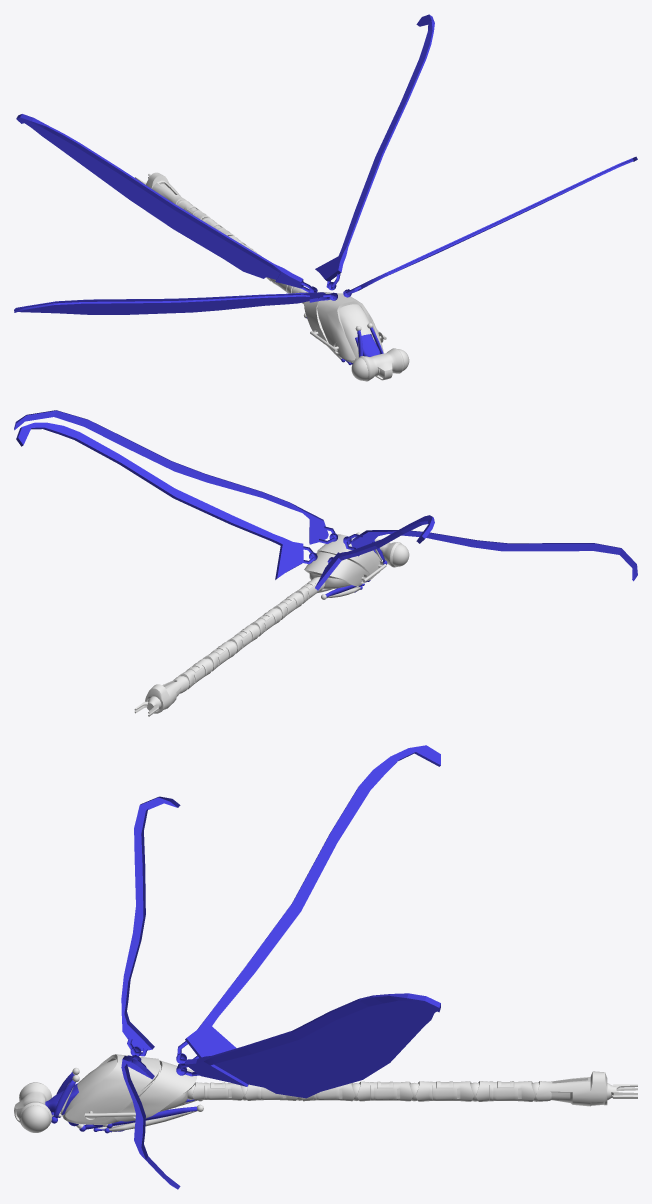
File: dragonfly.gltf
3 views of the same model, one above another, from view 1: azimuth 30°, elevation 25°; view 2: azimuth 150°, elevation 25°; view 3: azimuth 270°, elevation 25° (orthographic). The views are drawn at different scales.
Parts seen in each view (by area): view 1: BackWing.001, FrontWing.001, BackWing, basebody.001, FrontWing, HEAD, basebody, back; view 2: BackWing, FrontWing, FrontWing.001, basebody.001, BackWing.001, back, HEAD, TAIL.005, TAIL.004, TAIL.003; view 3: BackWing, BackWing.001, basebody.001, FrontWing.001, back, HEAD, FrontWing, basebody, TAIL.005, TAIL.004, TAIL.003, TAIL (+1 smaller).
Part boxes in pixels (left/top/right/bottom): BackWing.001: left=16, top=114, right=317, bottom=292; FrontWing.001: left=14, top=292, right=337, bottom=314; BackWing: left=315, top=14, right=434, bottom=290; basebody.001: left=304, top=292, right=386, bottom=360; FrontWing: left=343, top=156, right=637, bottom=297; HEAD: left=351, top=348, right=409, bottom=381; basebody: left=333, top=304, right=375, bottom=362; back: left=135, top=172, right=186, bottom=204; BackWing: left=16, top=422, right=317, bottom=579; FrontWing: left=14, top=410, right=337, bottom=544; FrontWing.001: left=343, top=530, right=637, bottom=581; basebody.001: left=304, top=534, right=386, bottom=586; BackWing.001: left=315, top=515, right=434, bottom=590; back: left=134, top=676, right=189, bottom=716; HEAD: left=374, top=539, right=409, bottom=567; TAIL.005: left=178, top=659, right=213, bottom=689; TAIL.004: left=202, top=641, right=236, bottom=671; TAIL.003: left=227, top=625, right=259, bottom=653; BackWing: left=176, top=993, right=440, bottom=1098; BackWing.001: left=176, top=745, right=440, bottom=1063; basebody.001: left=65, top=1054, right=196, bottom=1121; FrontWing.001: left=121, top=796, right=180, bottom=1056; back: left=536, top=1071, right=637, bottom=1106; HEAD: left=14, top=1082, right=51, bottom=1132; FrontWing: left=121, top=1055, right=180, bottom=1189; basebody: left=62, top=1059, right=194, bottom=1124; TAIL.005: left=476, top=1081, right=539, bottom=1101; TAIL.004: left=416, top=1081, right=479, bottom=1101; TAIL.003: left=357, top=1081, right=418, bottom=1101; TAIL: left=192, top=1082, right=248, bottom=1100.
Bounding box in the file's own units: 35.26 × 11.03 × 24.26.
